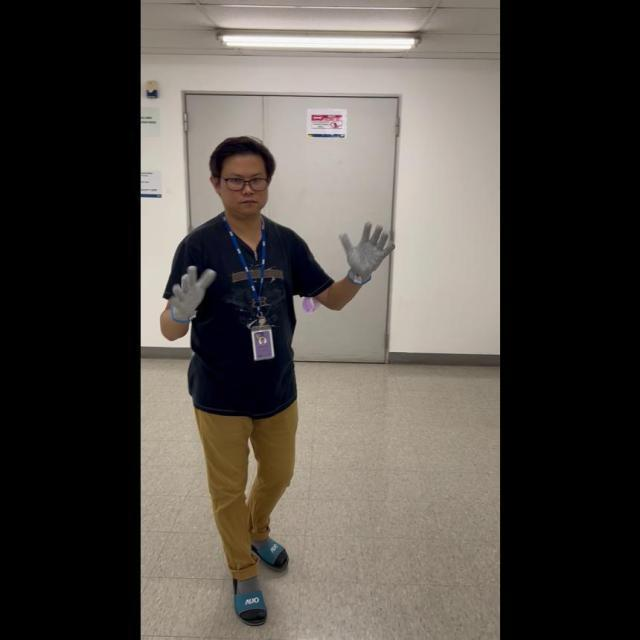gloved_hand: (336, 219, 394, 284), (165, 260, 217, 325)
